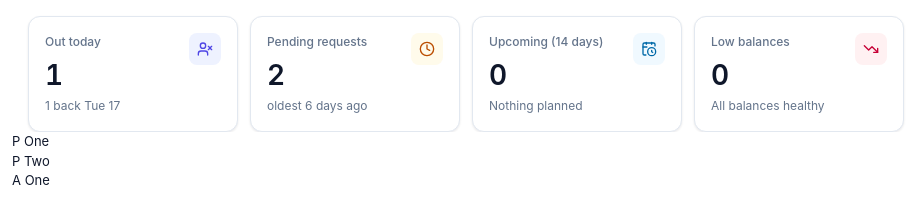
Test: KPI cards › clicking Pending filters to the pending leaves; clicking again clears
Expected: the number of list items is 3, [12,133,49,149]; [12,152,50,168]; [12,172,50,188]
What coordinates should you click on to do the following:
click the button "Pending requests 2 oldest 6 days ago"
I would click on:
 (355, 74)
Its box is [250,16,460,132].
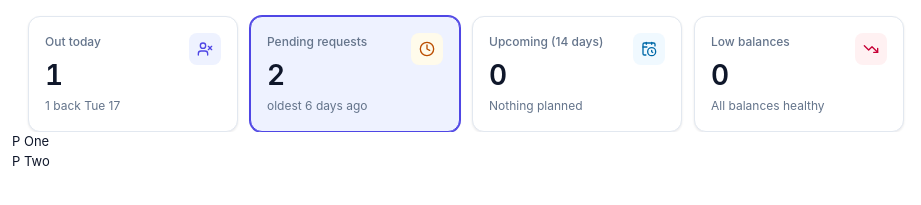
Now the list items read "P One", "P Two", in this order, box [12,133,49,149]; [12,152,50,168]
What coordinates should you click on to do the following:
click the button "Pending requests 2 oldest 6 days ago"
I would click on:
 (355, 74)
Its box is [250,16,460,132].
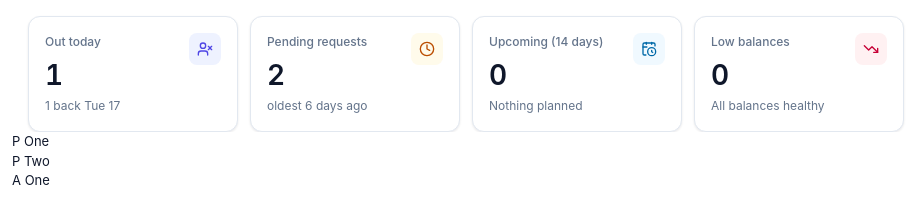
Now the number of list items is 3, box [12,133,49,149]; [12,152,50,168]; [12,172,50,188]
